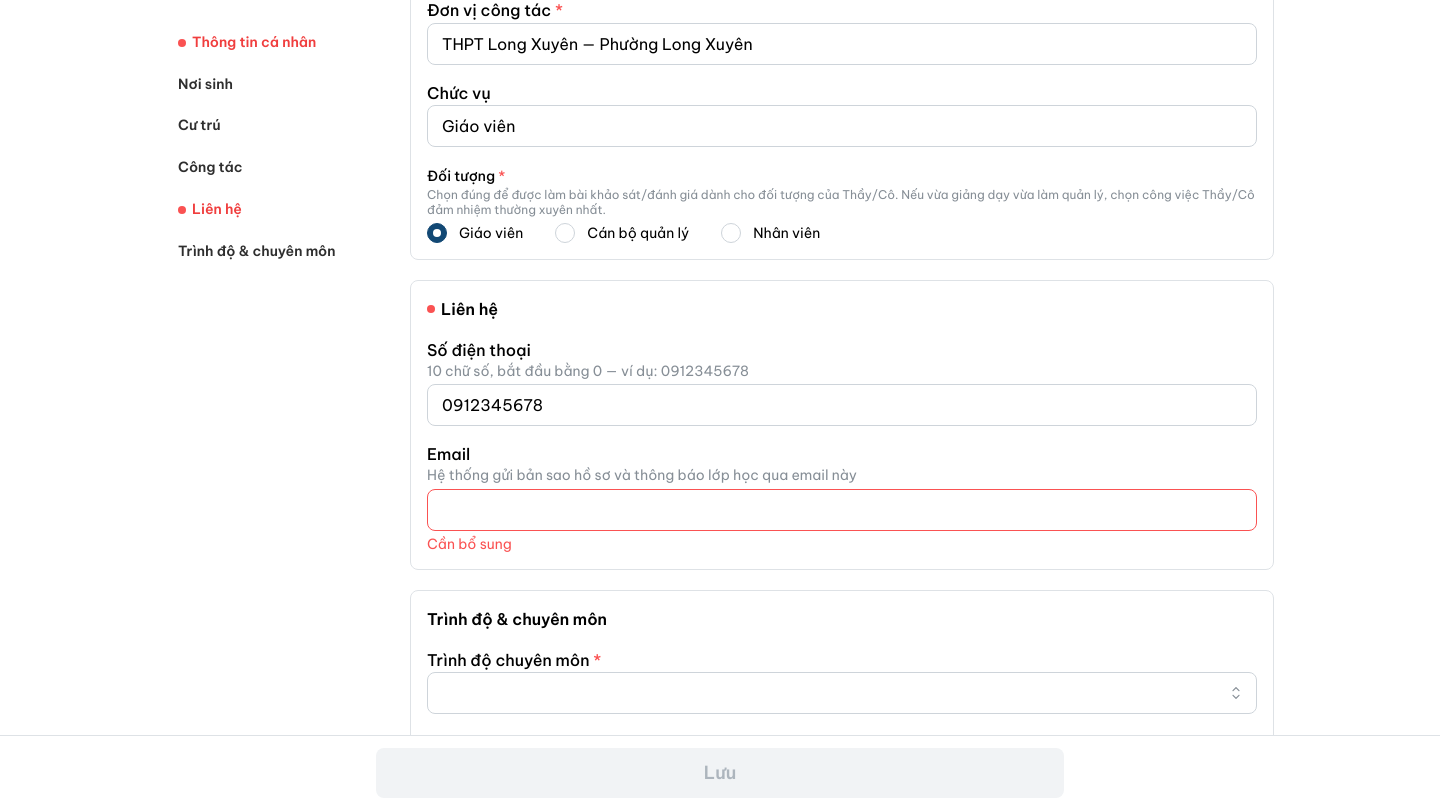
Scenario: M4 — Hồ sơ: xem & sửa › nhập SĐT sai định dạng rồi rời ô (blur) → lỗi hiện ngay, không cần bấm Lưu trước
This screenshot has width=1440, height=810.
(page scrolled)
Replace the text in the field labelled "Số điện thoại" with "123" at (842, 405), box [427, 384, 1257, 426]
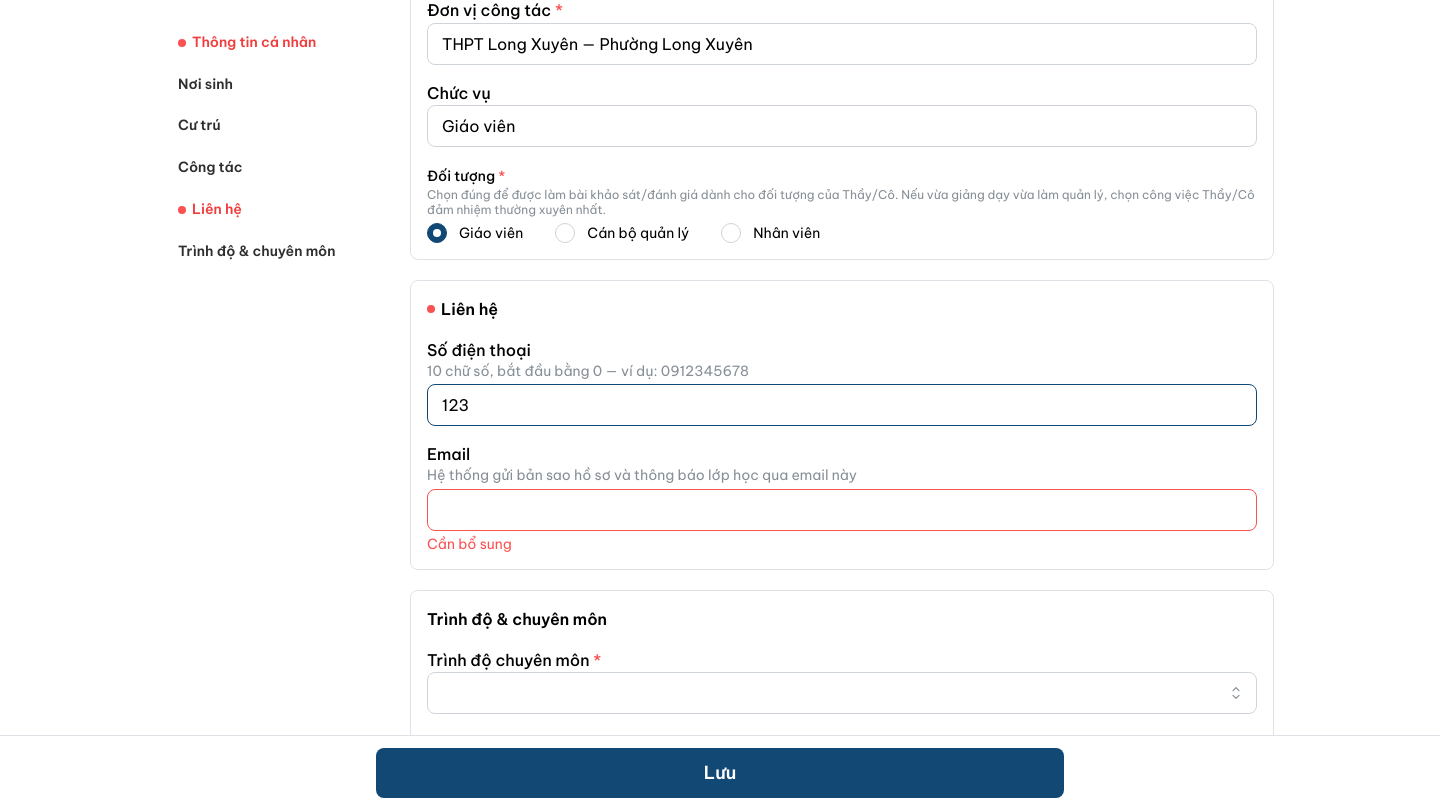
Press Tab
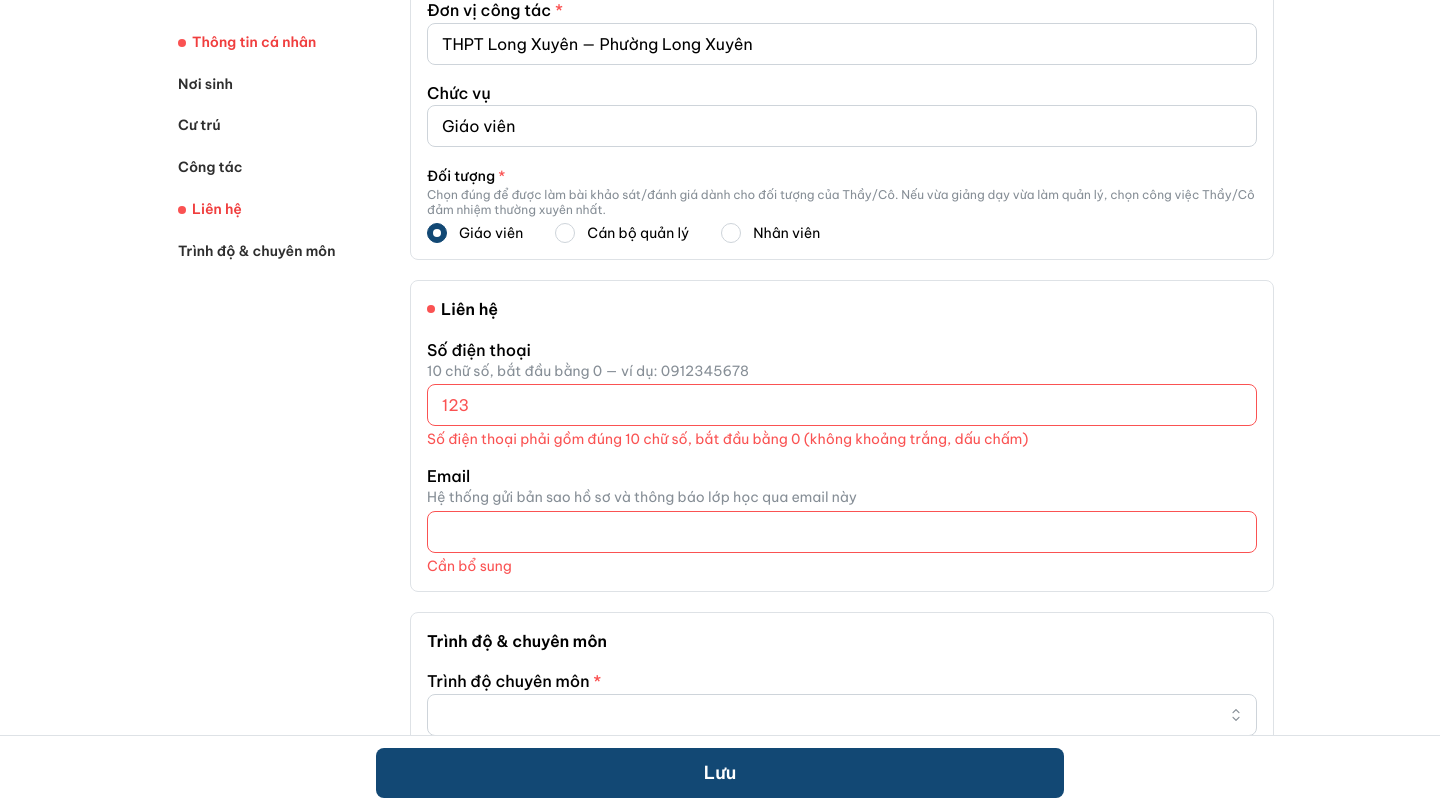
Expected: the text "Số điện thoại phải gồm đúng 10 chữ số" is shown, [427, 430, 1028, 448]
